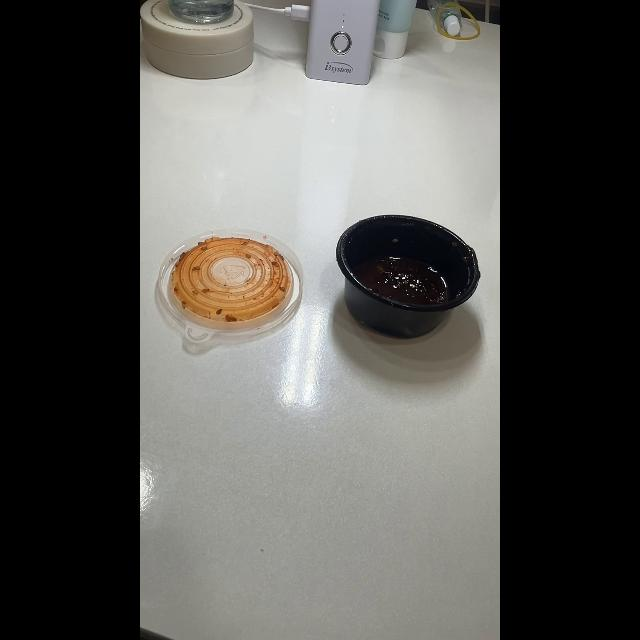clean: (374, 0, 420, 58)
dirty: (334, 212, 484, 341), (158, 228, 304, 342)
